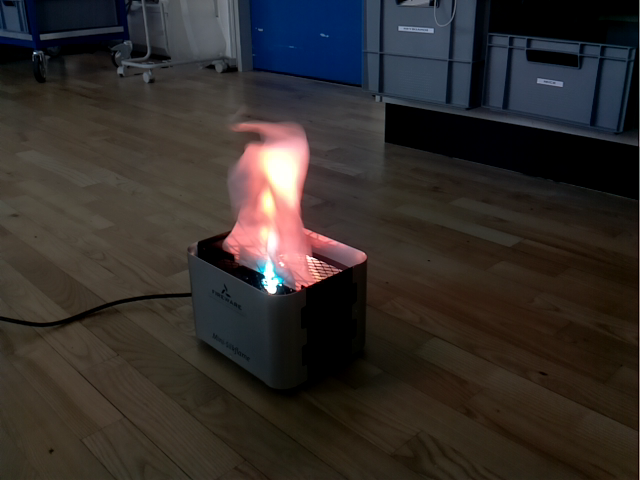fire: (223, 119, 317, 291)
